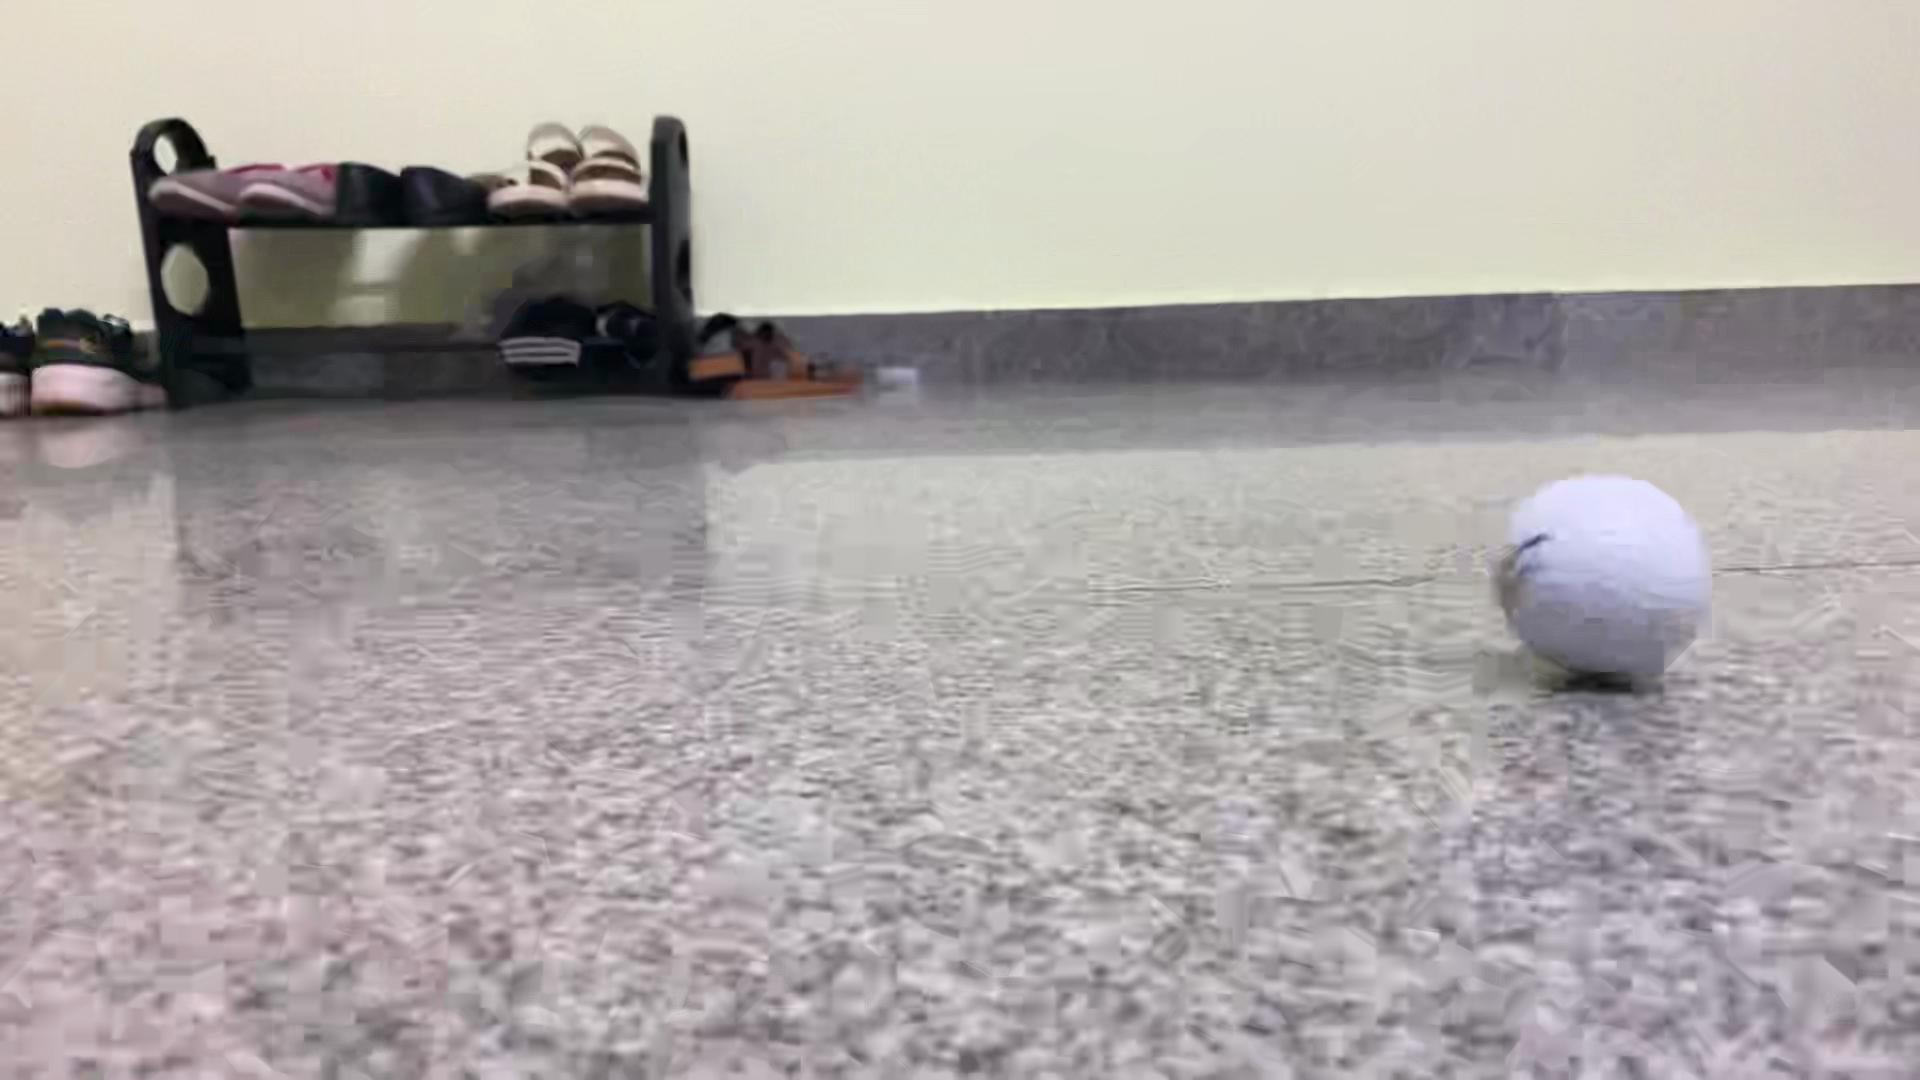golfball: (1494, 475, 1712, 678)
